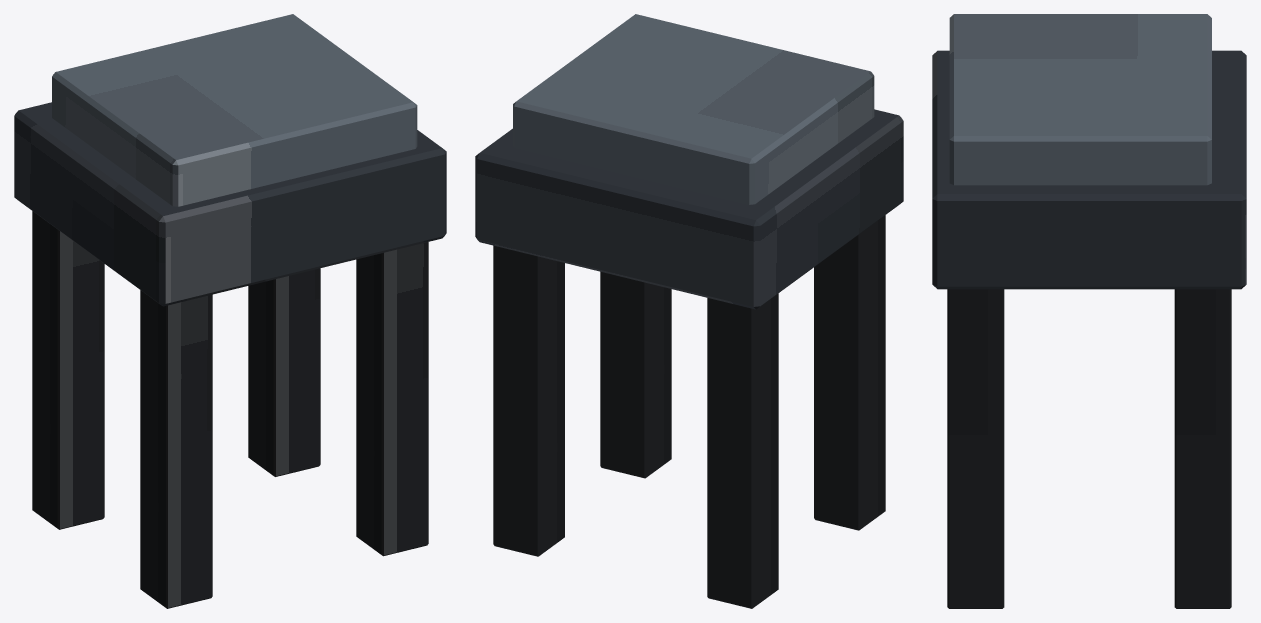
The model's file is vanity_stool_charcoal.glb.
3 renders of one model, left to right at view 1: azimuth 30°, elevation 25°; view 2: azimuth 150°, elevation 25°; view 3: azimuth 270°, elevation 25°, orthographic. The views are drawn at different scales.
Visible parts, largest first — view 1: StoolCushion, StoolSeat, StoolLeg_L_F, StoolLeg_R_F, StoolLeg_L_B, StoolLeg_R_B; view 2: StoolSeat, StoolCushion, StoolLeg_L_B, StoolLeg_R_B, StoolLeg_L_F, StoolLeg_R_F; view 3: StoolCushion, StoolSeat, StoolLeg_R_B, StoolLeg_R_F.
Boxes of the visible parts, x1,y1,x2,y2 form: StoolCushion: [52, 14, 417, 206]; StoolSeat: [14, 102, 446, 306]; StoolLeg_L_F: [140, 290, 212, 608]; StoolLeg_R_F: [356, 242, 428, 556]; StoolLeg_L_B: [32, 211, 104, 529]; StoolLeg_R_B: [248, 268, 320, 476]; StoolSeat: [475, 109, 903, 309]; StoolCushion: [513, 14, 874, 204]; StoolLeg_L_B: [707, 293, 778, 608]; StoolLeg_R_B: [493, 245, 564, 556]; StoolLeg_L_F: [814, 215, 885, 530]; StoolLeg_R_F: [600, 271, 671, 478]; StoolCushion: [949, 14, 1211, 185]; StoolSeat: [932, 50, 1246, 289]; StoolLeg_R_B: [1174, 289, 1231, 608]; StoolLeg_R_F: [947, 289, 1004, 608].
Size of the model in its own units: 0.4 by 0.59 by 0.36.
Materials: 1 (1 with a texture image).
